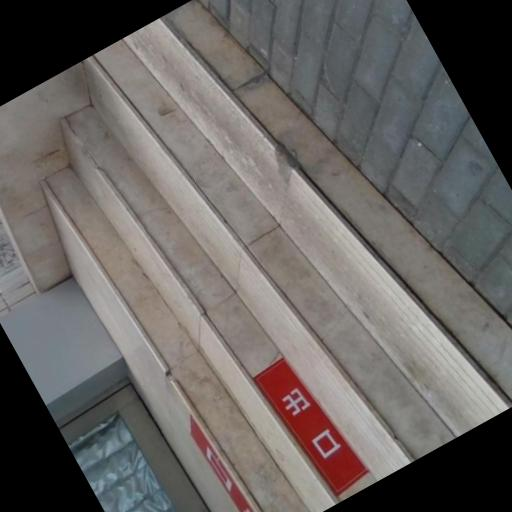stairs: (45, 0, 511, 511)
